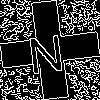N: (25, 25, 67, 75)
